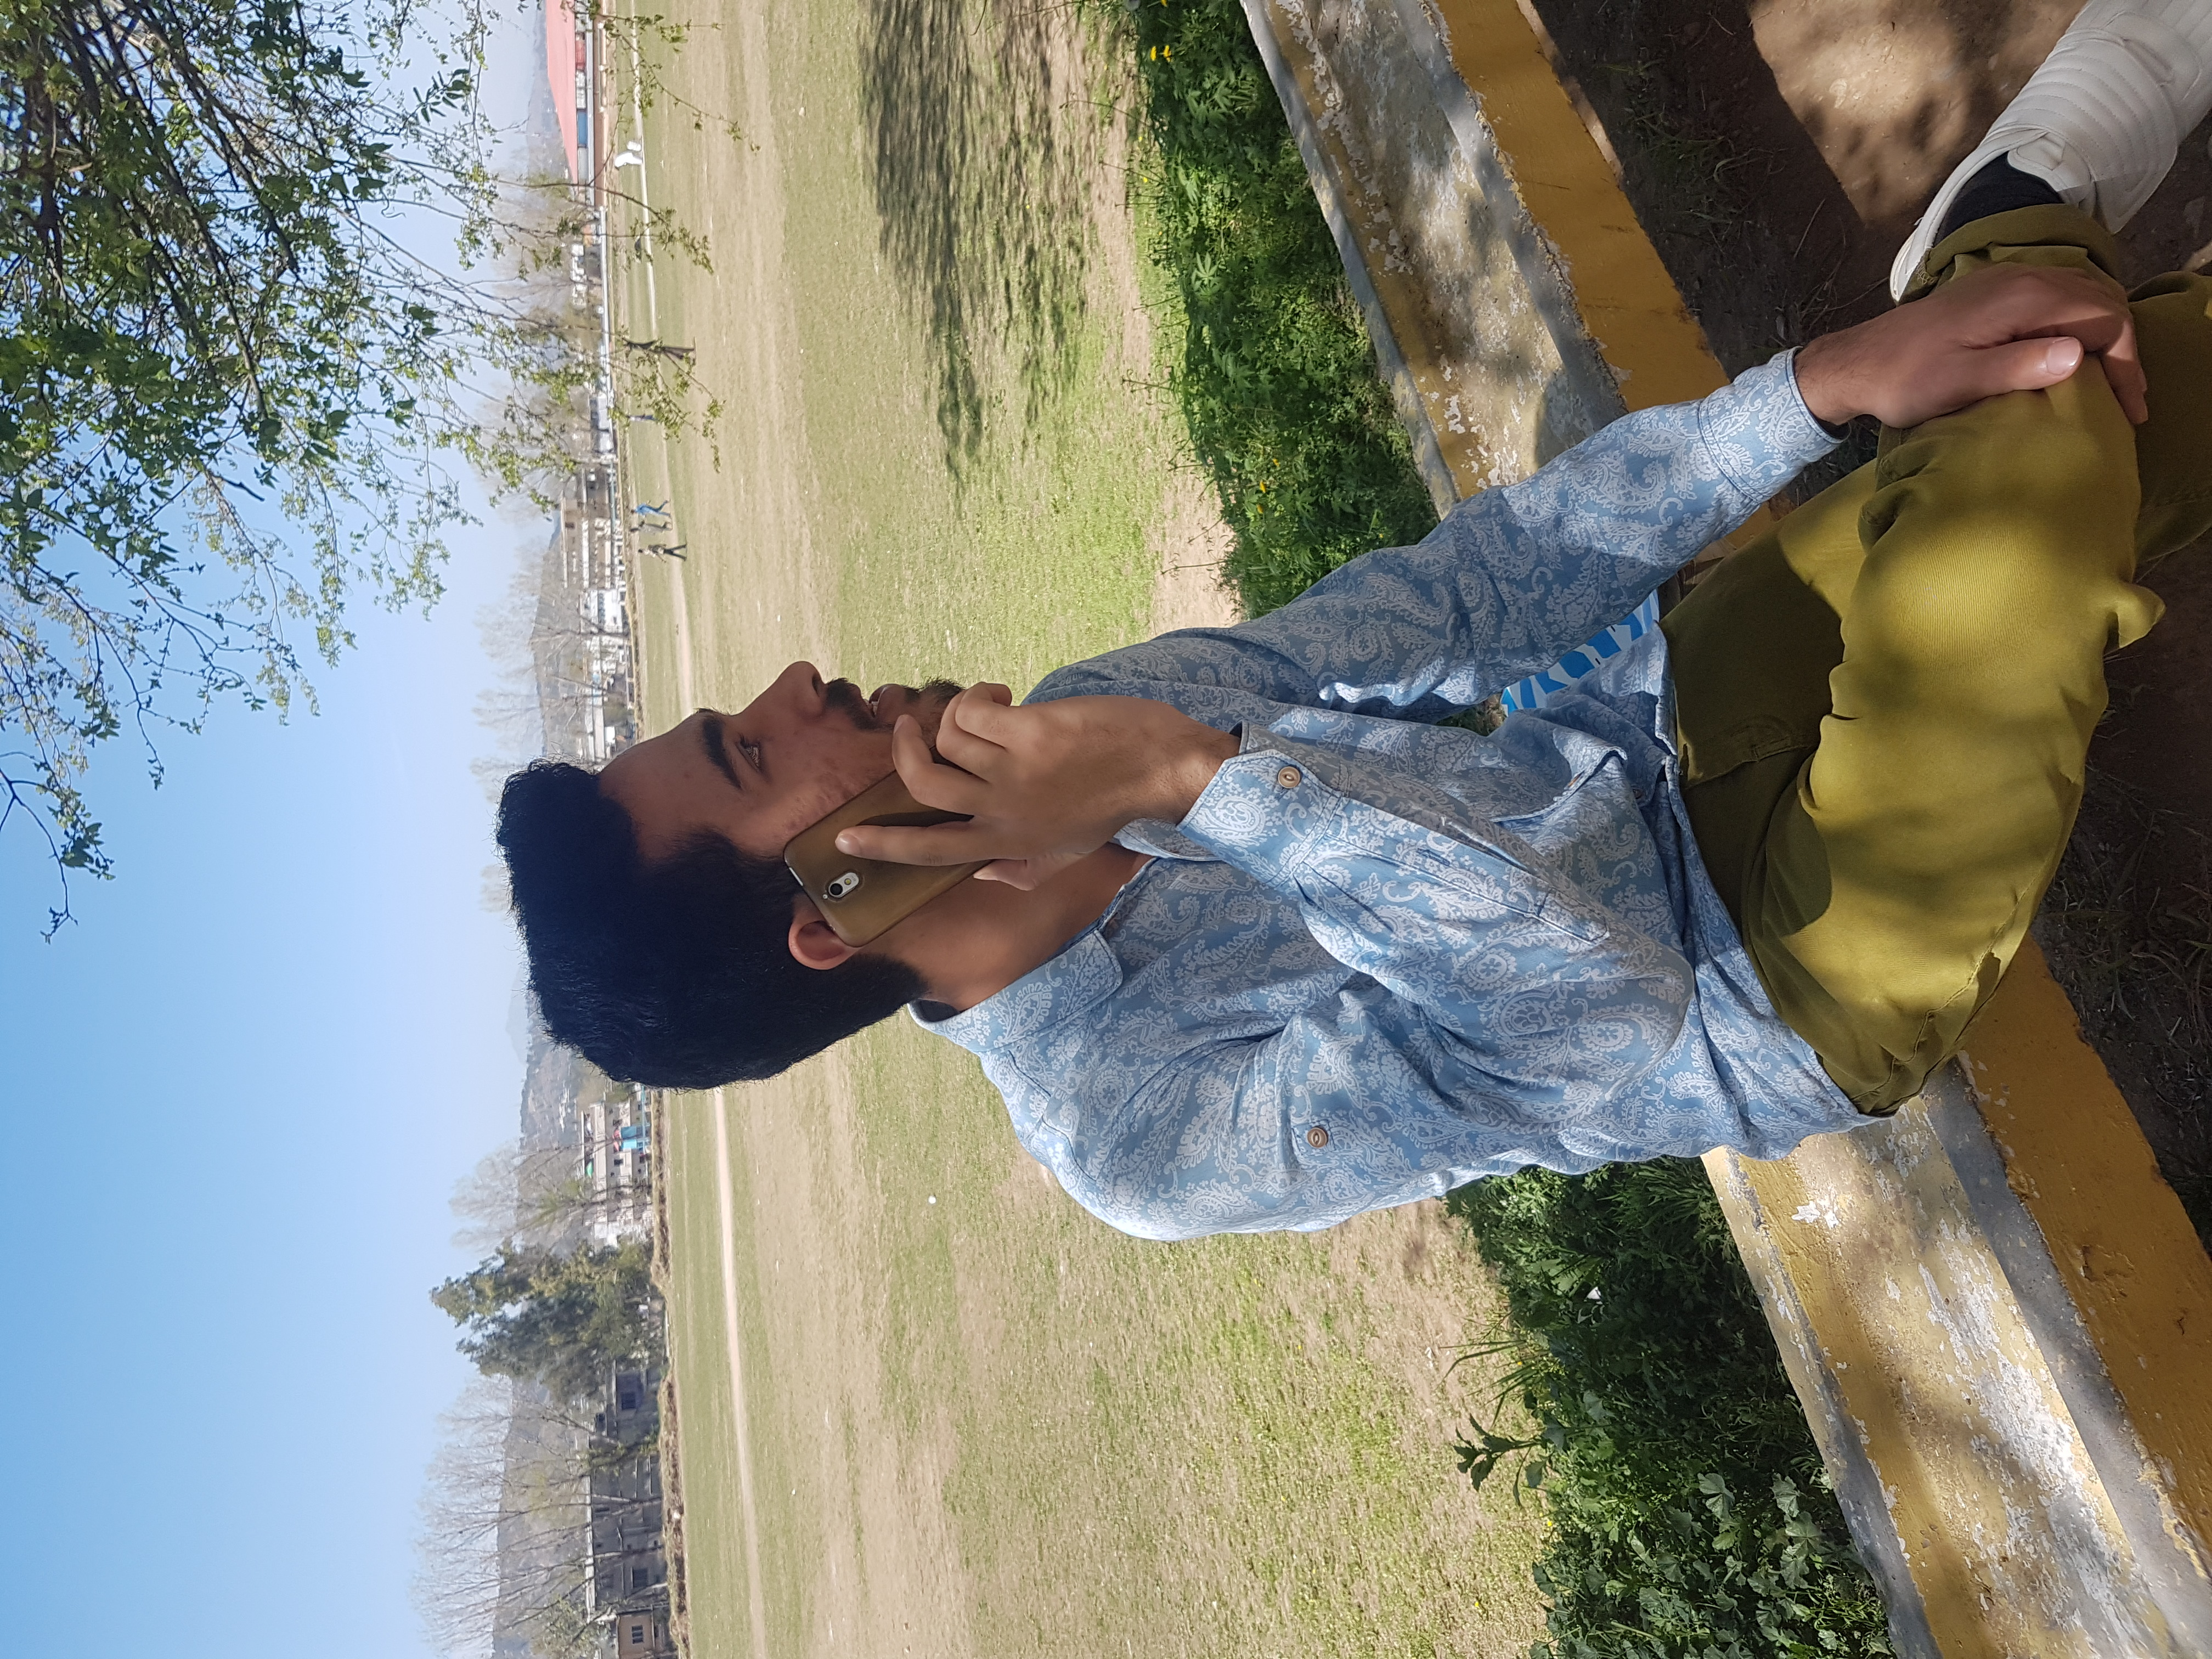face: (558, 663, 969, 855)
mobile: (791, 768, 960, 938)
